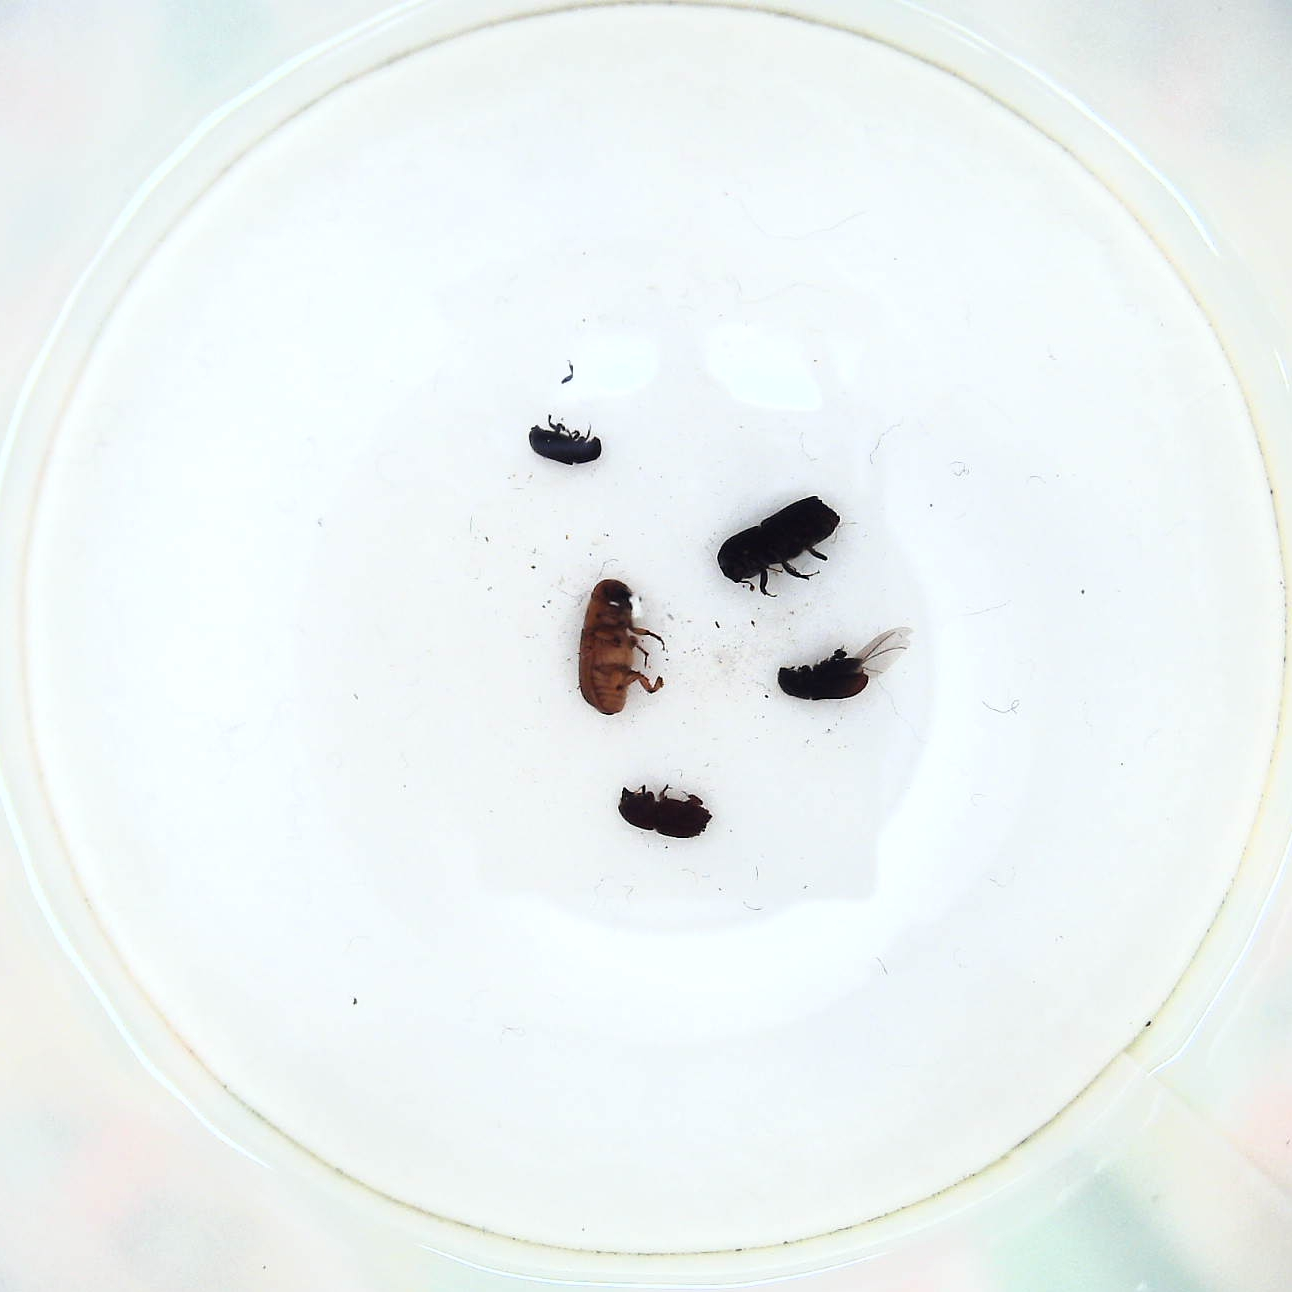Boerner: (715, 489, 854, 596)
Leconte: (568, 574, 665, 716)
armandi: (773, 640, 910, 703)
coleoptera: (521, 413, 608, 472)
linnaeus: (612, 784, 715, 847)
